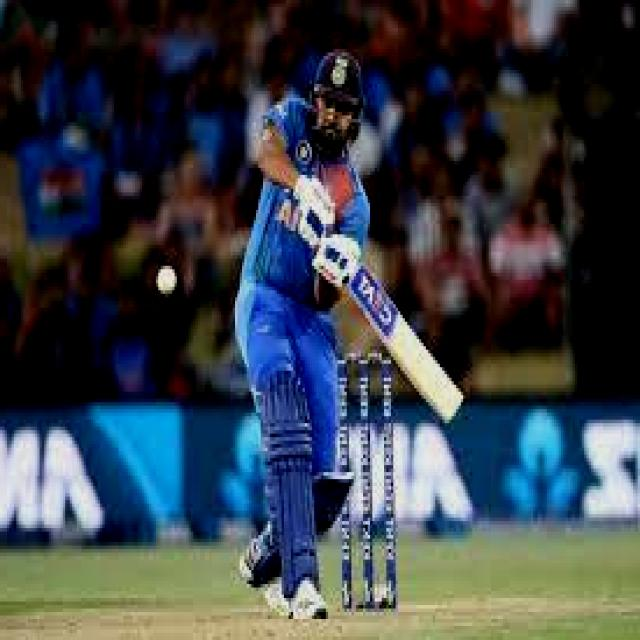toe: (442, 391, 468, 425)
